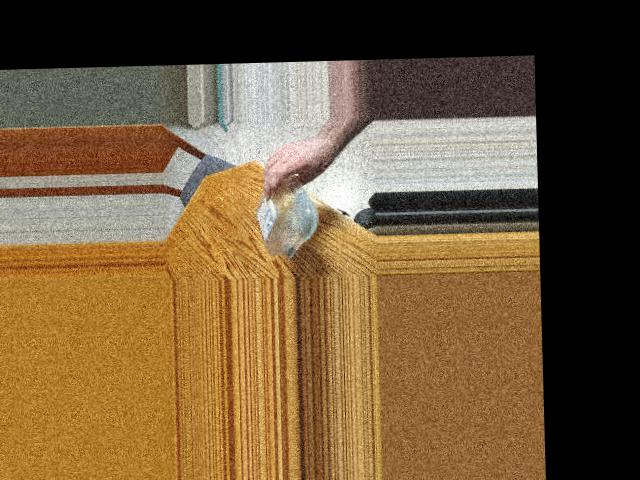cheese: (257, 161, 311, 253)
